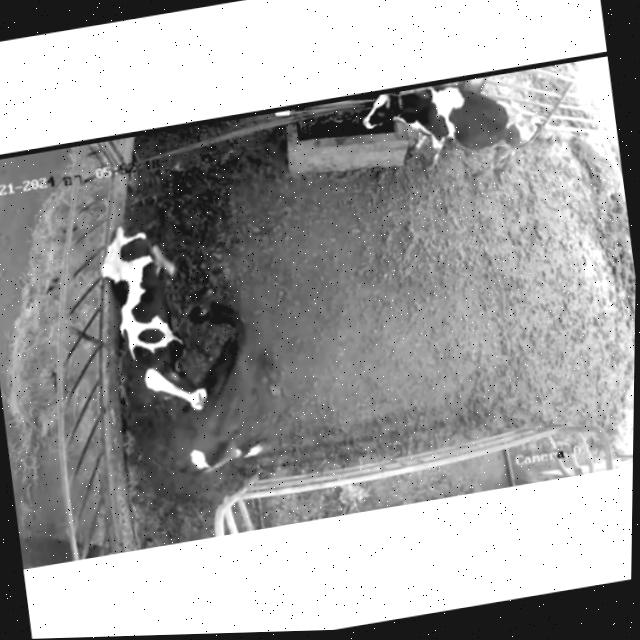drink: (354, 88, 432, 144)
stand: (80, 202, 229, 446)
